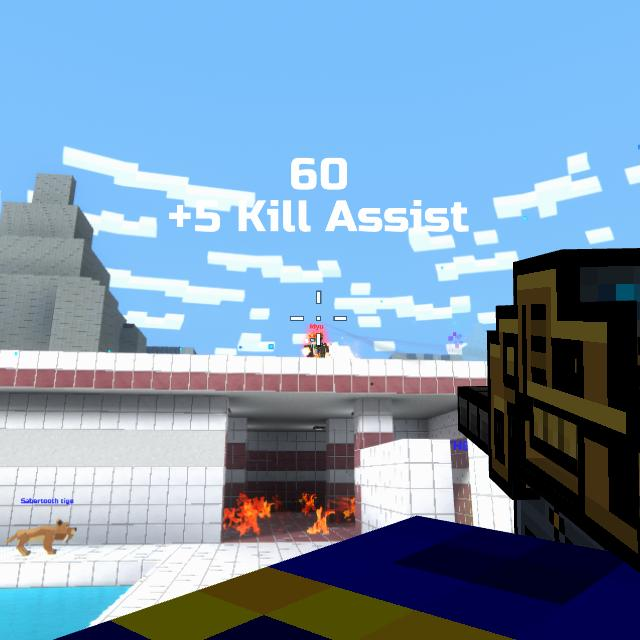Enemy: (304, 332, 330, 358)
